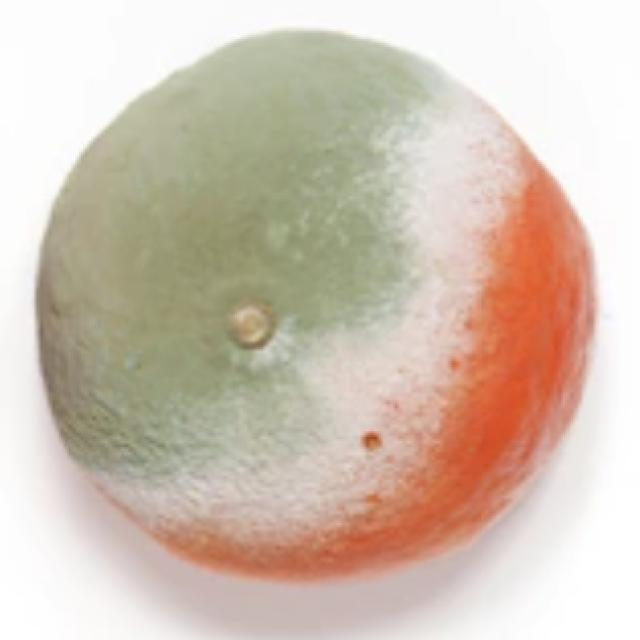sangat-busuk: (37, 30, 514, 516)
